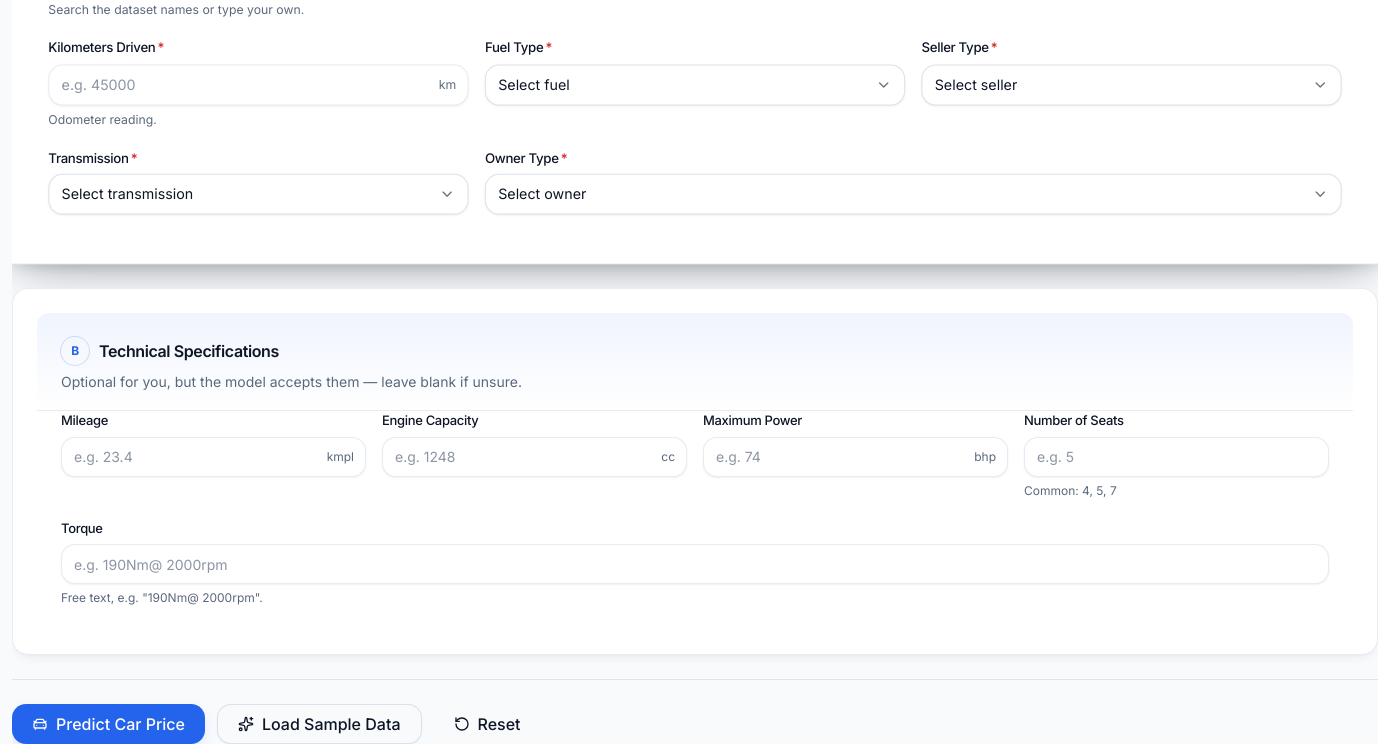
Test: prediction API integration › surfaces an unreachable-backend error instead of failing silently
(page scrolled)
Click the button "Load Sample Data". click: [319, 724]
box: [217, 704, 422, 743]
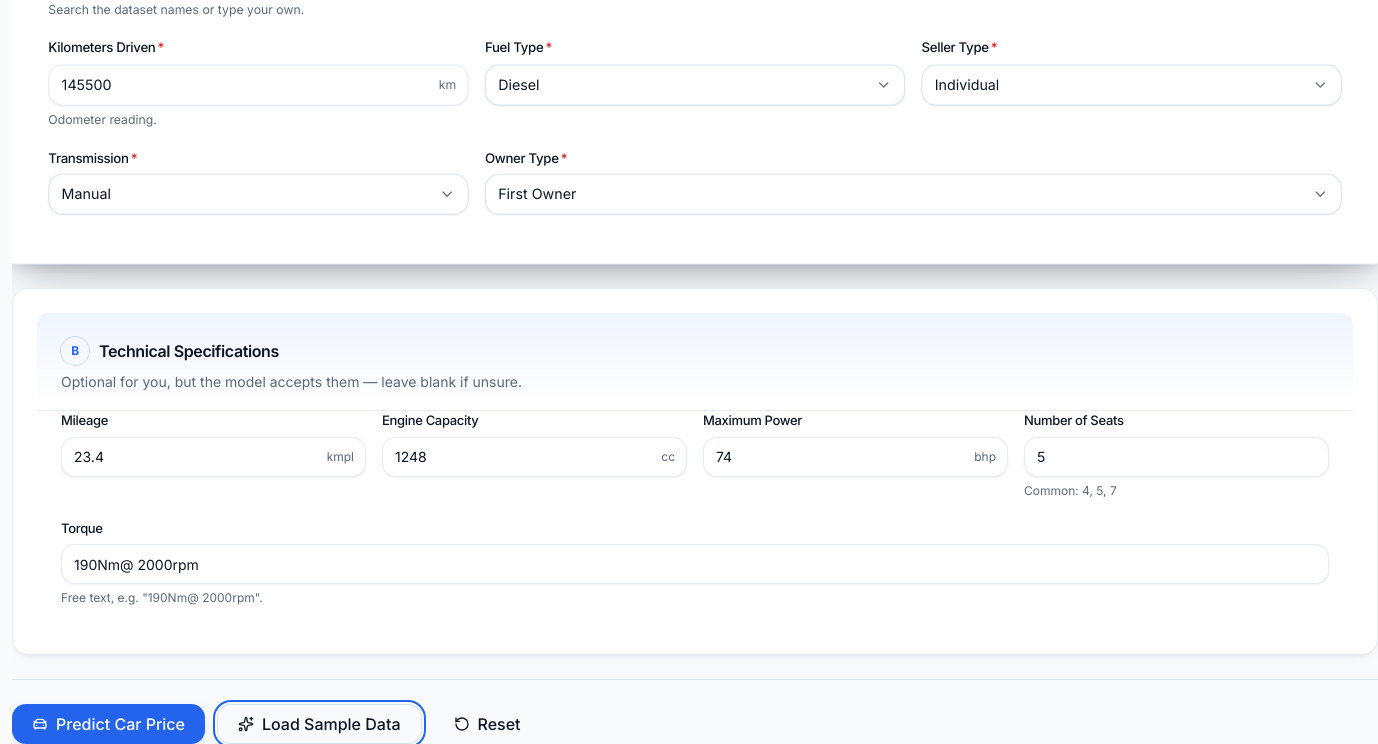
Click the button "Predict Car Price". click: [108, 724]
box: [12, 704, 205, 743]
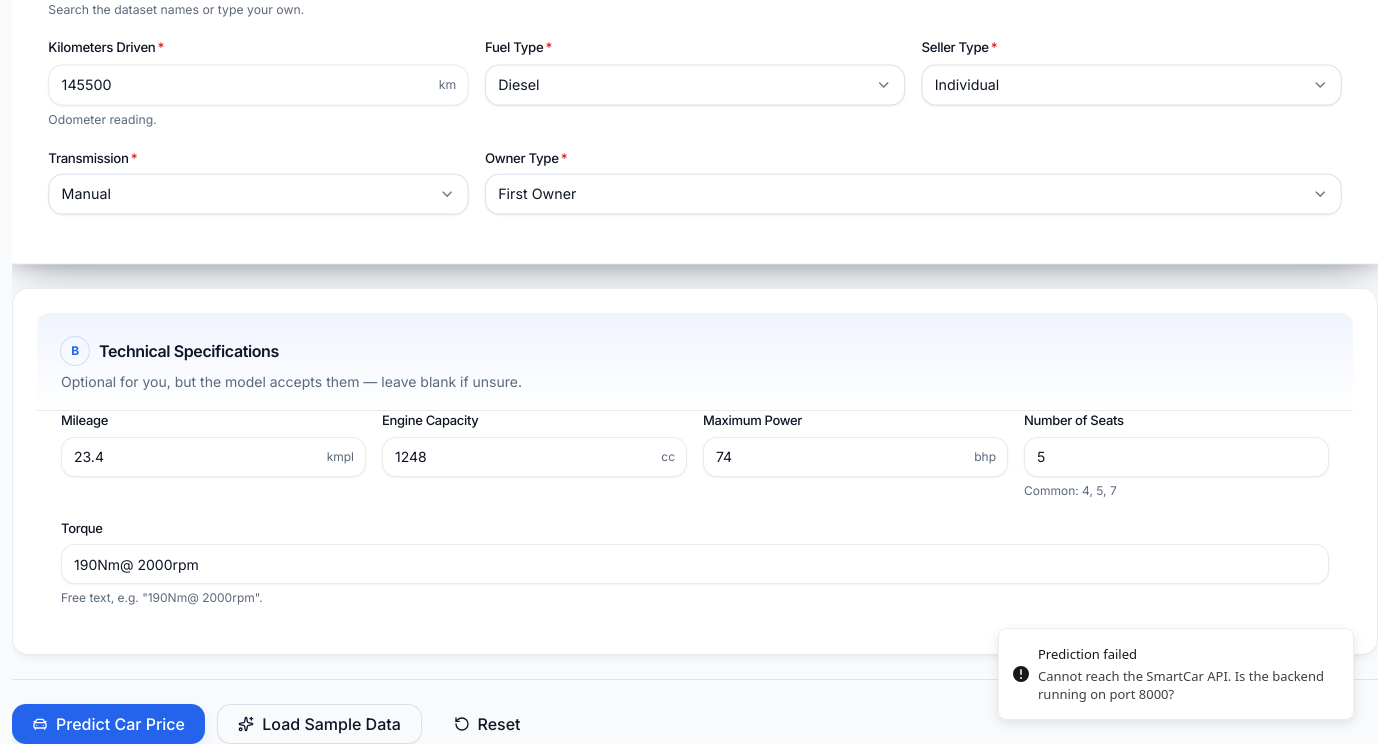
Check: the text "Prediction failed" is shown, box [1038, 645, 1137, 663]
